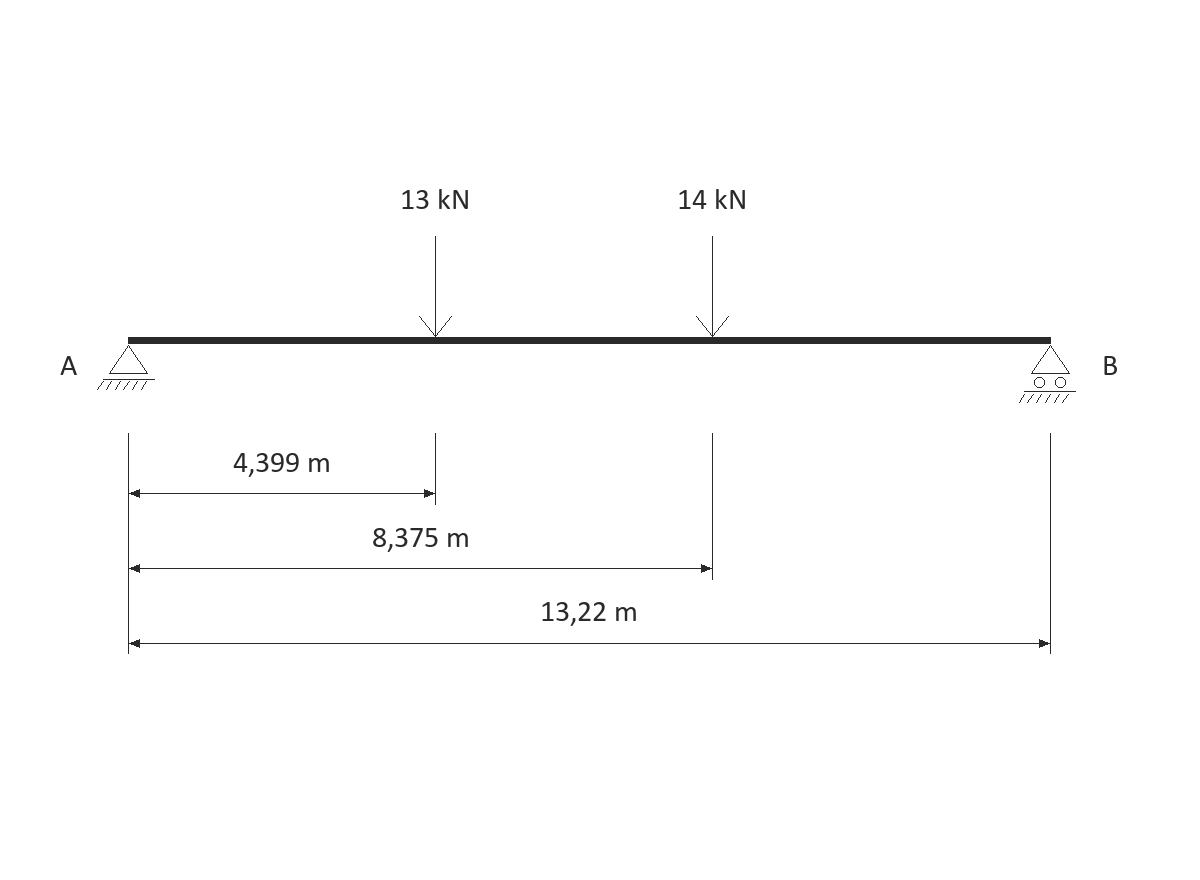pin_support: (97, 345, 155, 390)
point_load: (419, 236, 452, 337), (696, 236, 729, 337)
roller_support: (1019, 345, 1076, 403)
